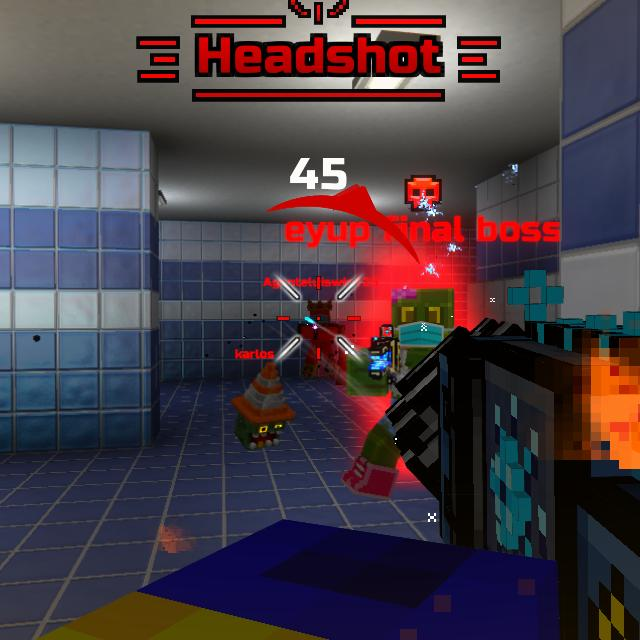Enemy: (347, 290, 454, 485)
